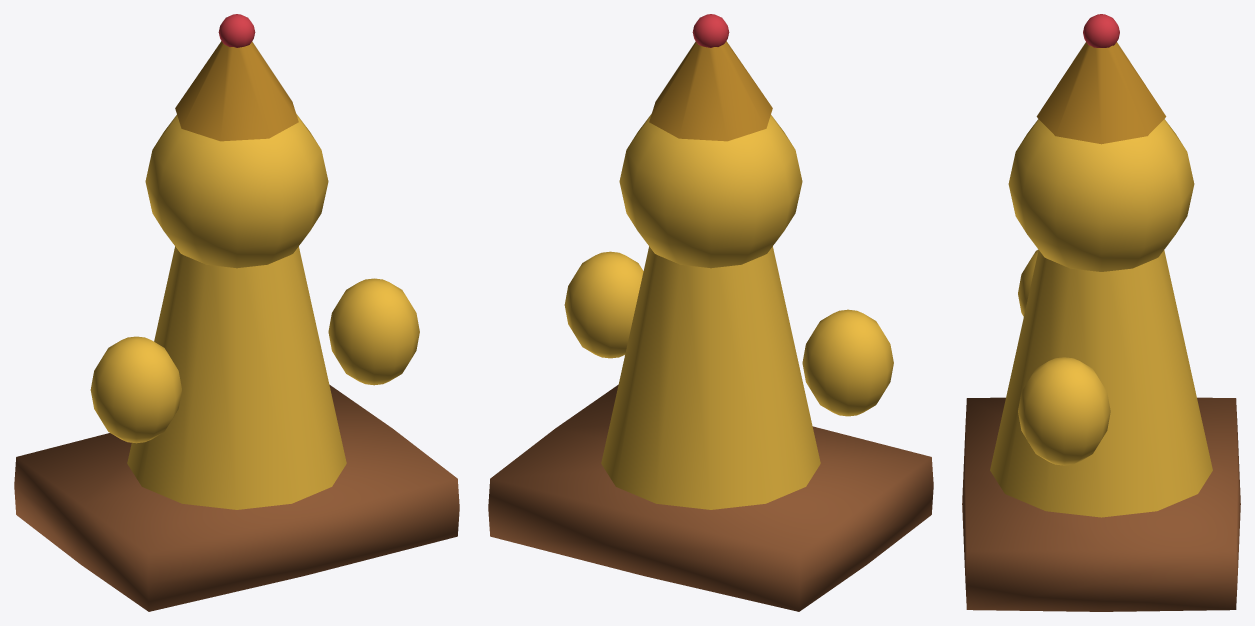
File: idol.glb
The picture shows the model from 3 angles, left to right: view 1: azimuth 30°, elevation 25°; view 2: azimuth 150°, elevation 25°; view 3: azimuth 270°, elevation 25°; orthographic projection.
Visible parts, largest first — view 1: root; view 2: root; view 3: root.
Boxes of the visible parts, x1,y1,x2,y2 form: root: (14,14,459,611); root: (488,14,933,611); root: (962,14,1240,611).
Size of the model in its own units: 0.4 by 0.62 by 0.3.
